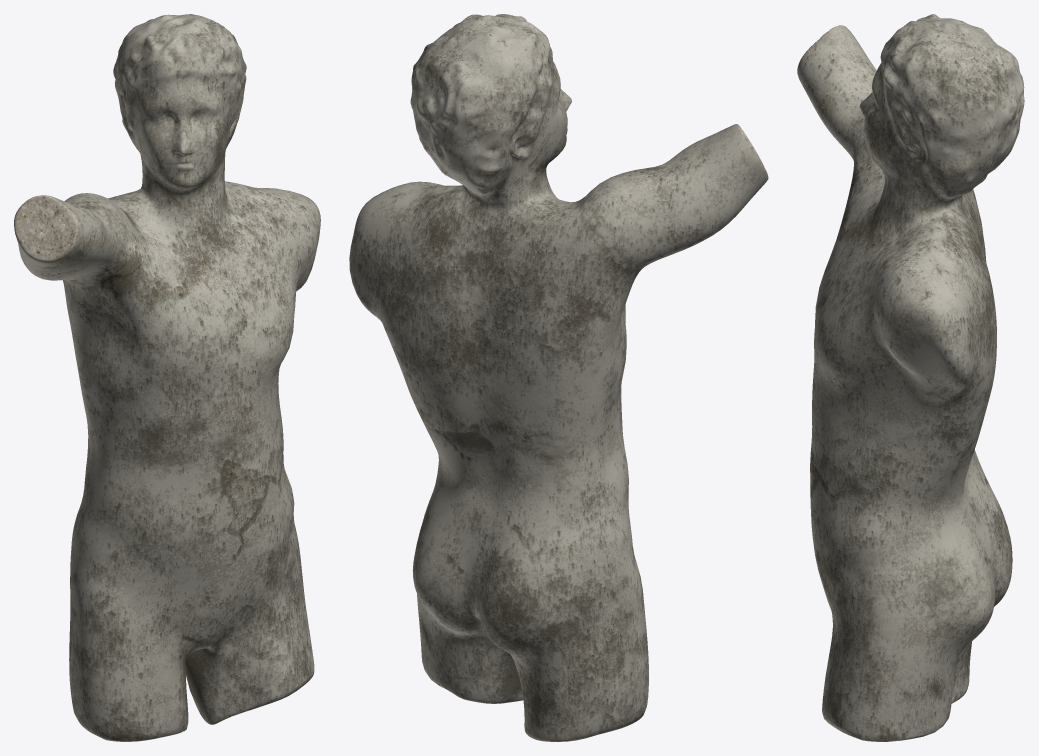
Rendered from greek_underwater_broken_statue_1.glb.
The picture shows the model from 3 angles, left to right: view 1: azimuth 30°, elevation 25°; view 2: azimuth 150°, elevation 25°; view 3: azimuth 270°, elevation 25°; orthographic projection. The views are drawn at different scales.
Parts seen in each view (by area): view 1: Statue; view 2: Statue; view 3: Statue.
Boxes of the visible parts, x1,y1,x2,y2 form: Statue: (14, 14, 320, 741); Statue: (349, 14, 768, 741); Statue: (797, 14, 1024, 741).
Size of the model in its own units: 26 by 49.09 by 14.25.
Materials: 2 (2 with a texture image).
